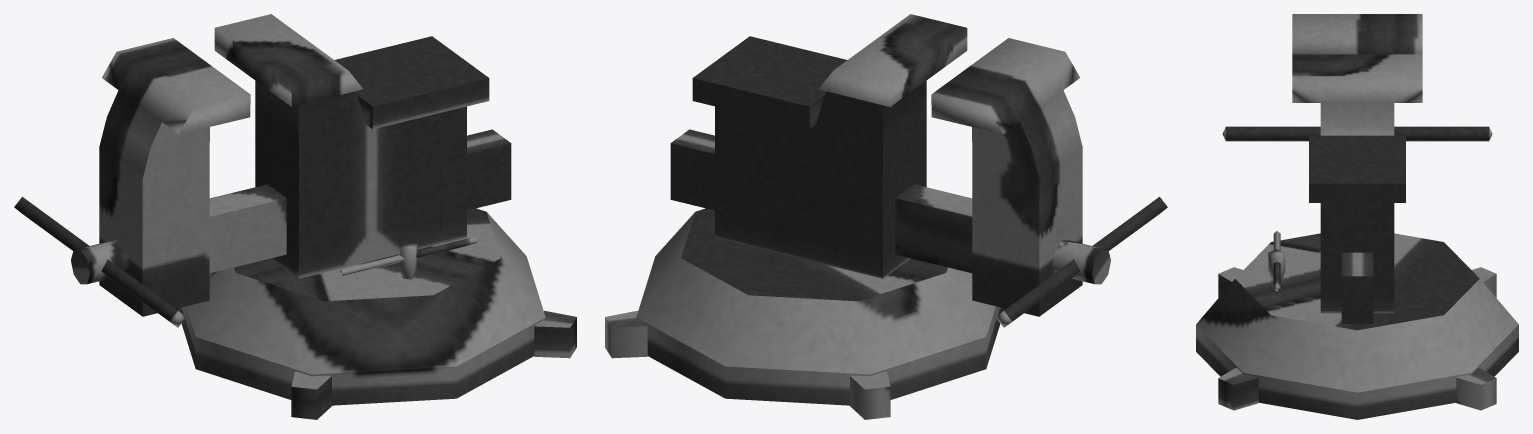
File: Vise.fbx
3 renders of one model, left to right at view 1: azimuth 30°, elevation 25°; view 2: azimuth 150°, elevation 25°; view 3: azimuth 270°, elevation 25°, orthographic. The views are drawn at different scales.
Visible parts, largest first — view 1: Vise_LP; view 2: Vise_LP; view 3: Vise_LP.
Boxes of the visible parts, x1,y1,x2,y2 form: Vise_LP: (14,14,576,419); Vise_LP: (605,14,1167,419); Vise_LP: (1196,14,1518,419).
Size of the model in its own units: 0.2702 by 0.173 by 0.2004.
